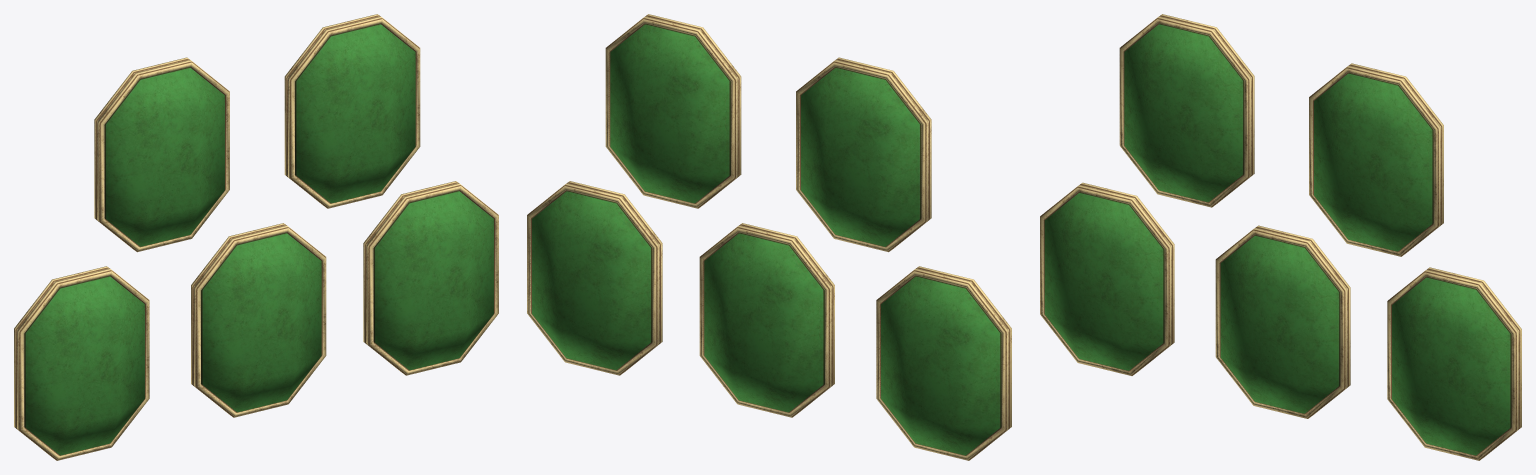
The model's file is gems.fbx.
3 views of the same model, side by side, from view 1: azimuth 30°, elevation 25°; view 2: azimuth 150°, elevation 25°; view 3: azimuth 330°, elevation 25° (orthographic).
Visible parts, largest first — view 1: yellow, green, purple, blue, red; view 2: yellow, green, purple, blue, red; view 3: blue, green, red, yellow, purple.
Boxes of the visible parts, x1=… form: yellow: x1=284, y1=14, x2=420, y2=208; green: x1=191, y1=223, x2=326, y2=417; purple: x1=14, y1=266, x2=149, y2=460; blue: x1=94, y1=57, x2=229, y2=252; red: x1=363, y1=181, x2=498, y2=375; yellow: x1=605, y1=14, x2=741, y2=208; green: x1=699, y1=223, x2=834, y2=417; purple: x1=876, y1=266, x2=1011, y2=460; blue: x1=796, y1=57, x2=931, y2=252; red: x1=527, y1=181, x2=662, y2=375; blue: x1=1119, y1=14, x2=1254, y2=207; green: x1=1215, y1=225, x2=1350, y2=418; red: x1=1387, y1=267, x2=1521, y2=460; yellow: x1=1309, y1=63, x2=1443, y2=256; purple: x1=1040, y1=182, x2=1174, y2=375.
Size of the model in its own units: 565 by 413 by 51.2.
